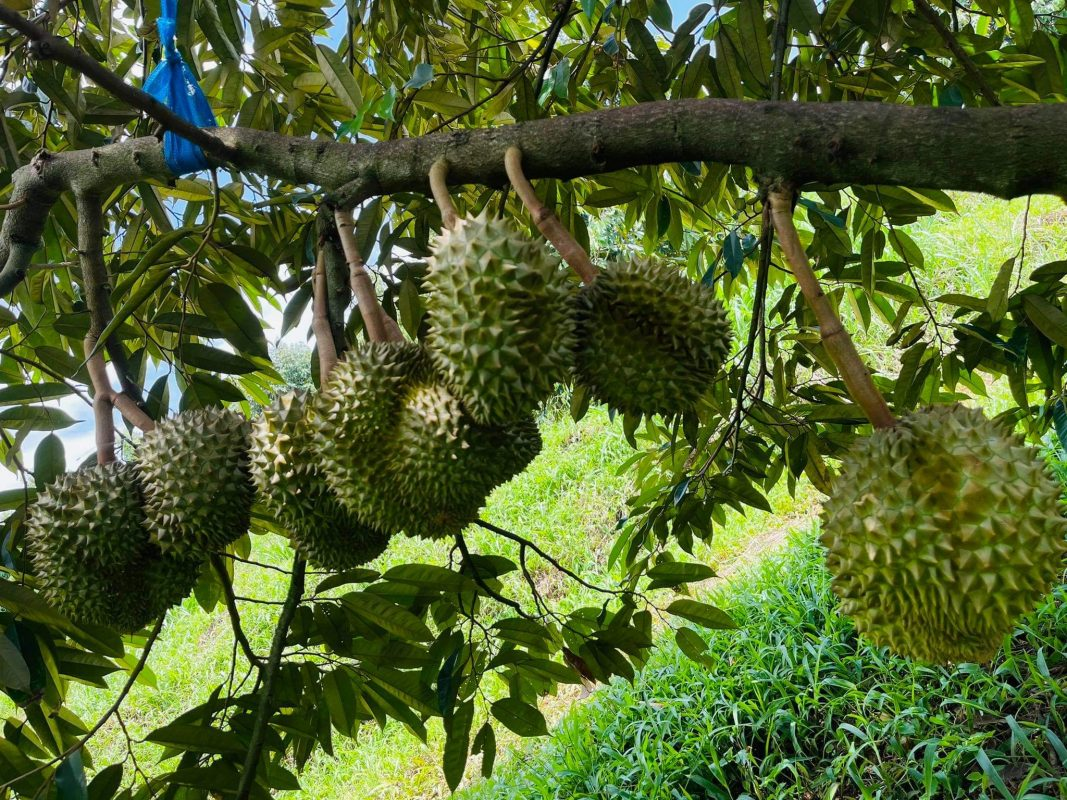sau_rieng: (799, 384, 1057, 673), (29, 445, 208, 642), (410, 230, 584, 421), (579, 259, 748, 426), (141, 406, 266, 551)
